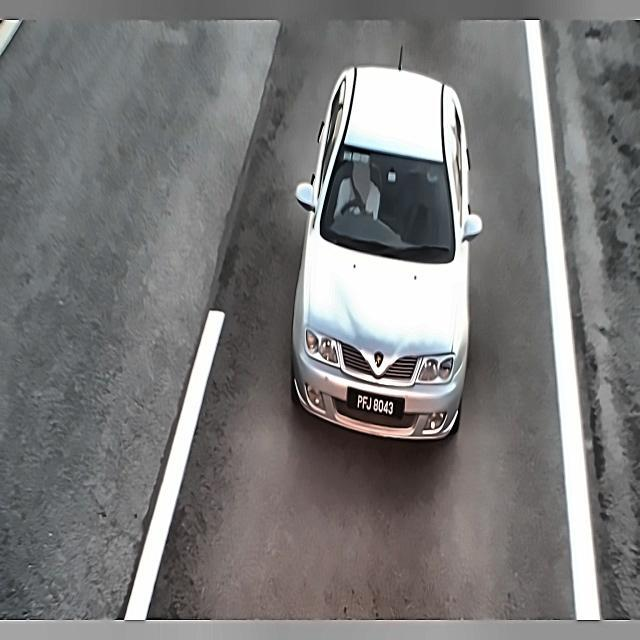car: (344, 385, 402, 427)
